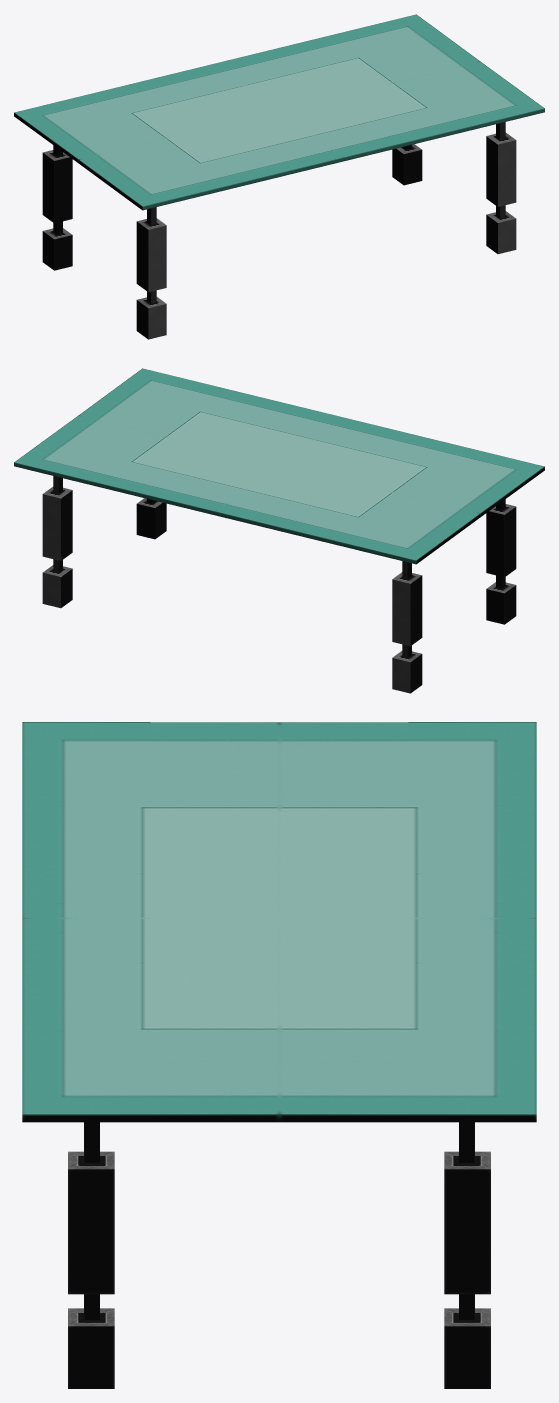
File: officeprop_table.FBX
3 renders of one model, top to bottom at view 1: azimuth 30°, elevation 25°; view 2: azimuth 150°, elevation 25°; view 3: azimuth 270°, elevation 25°, orthographic. The views are drawn at different scales.
Visible parts, largest first — view 1: officeprop_table; view 2: officeprop_table; view 3: officeprop_table.
Part boxes in pixels (x1=…): officeprop_table: x1=14, y1=14, x2=544, y2=339; officeprop_table: x1=14, y1=368, x2=544, y2=693; officeprop_table: x1=22, y1=722, x2=536, y2=1388.
Bounding box in the file's own units: 235 × 81.06 × 130.
